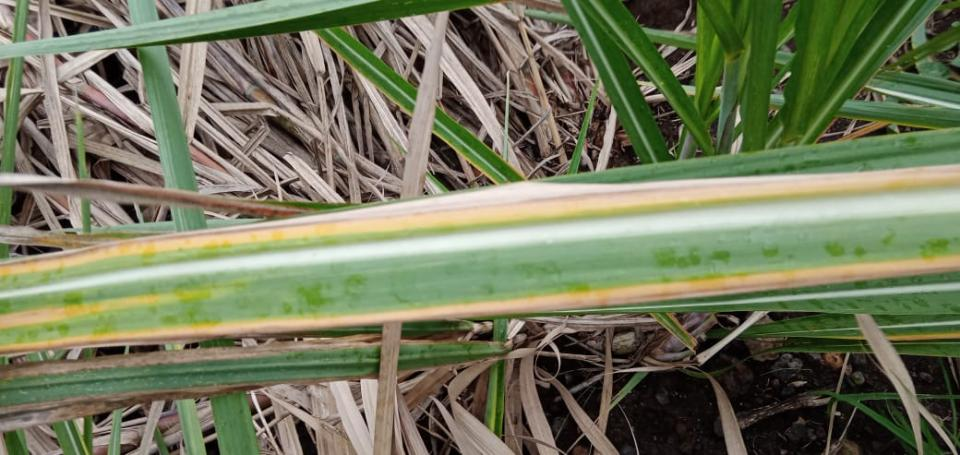Yellow: (0, 165, 959, 276), (0, 254, 959, 354), (0, 305, 105, 328)
